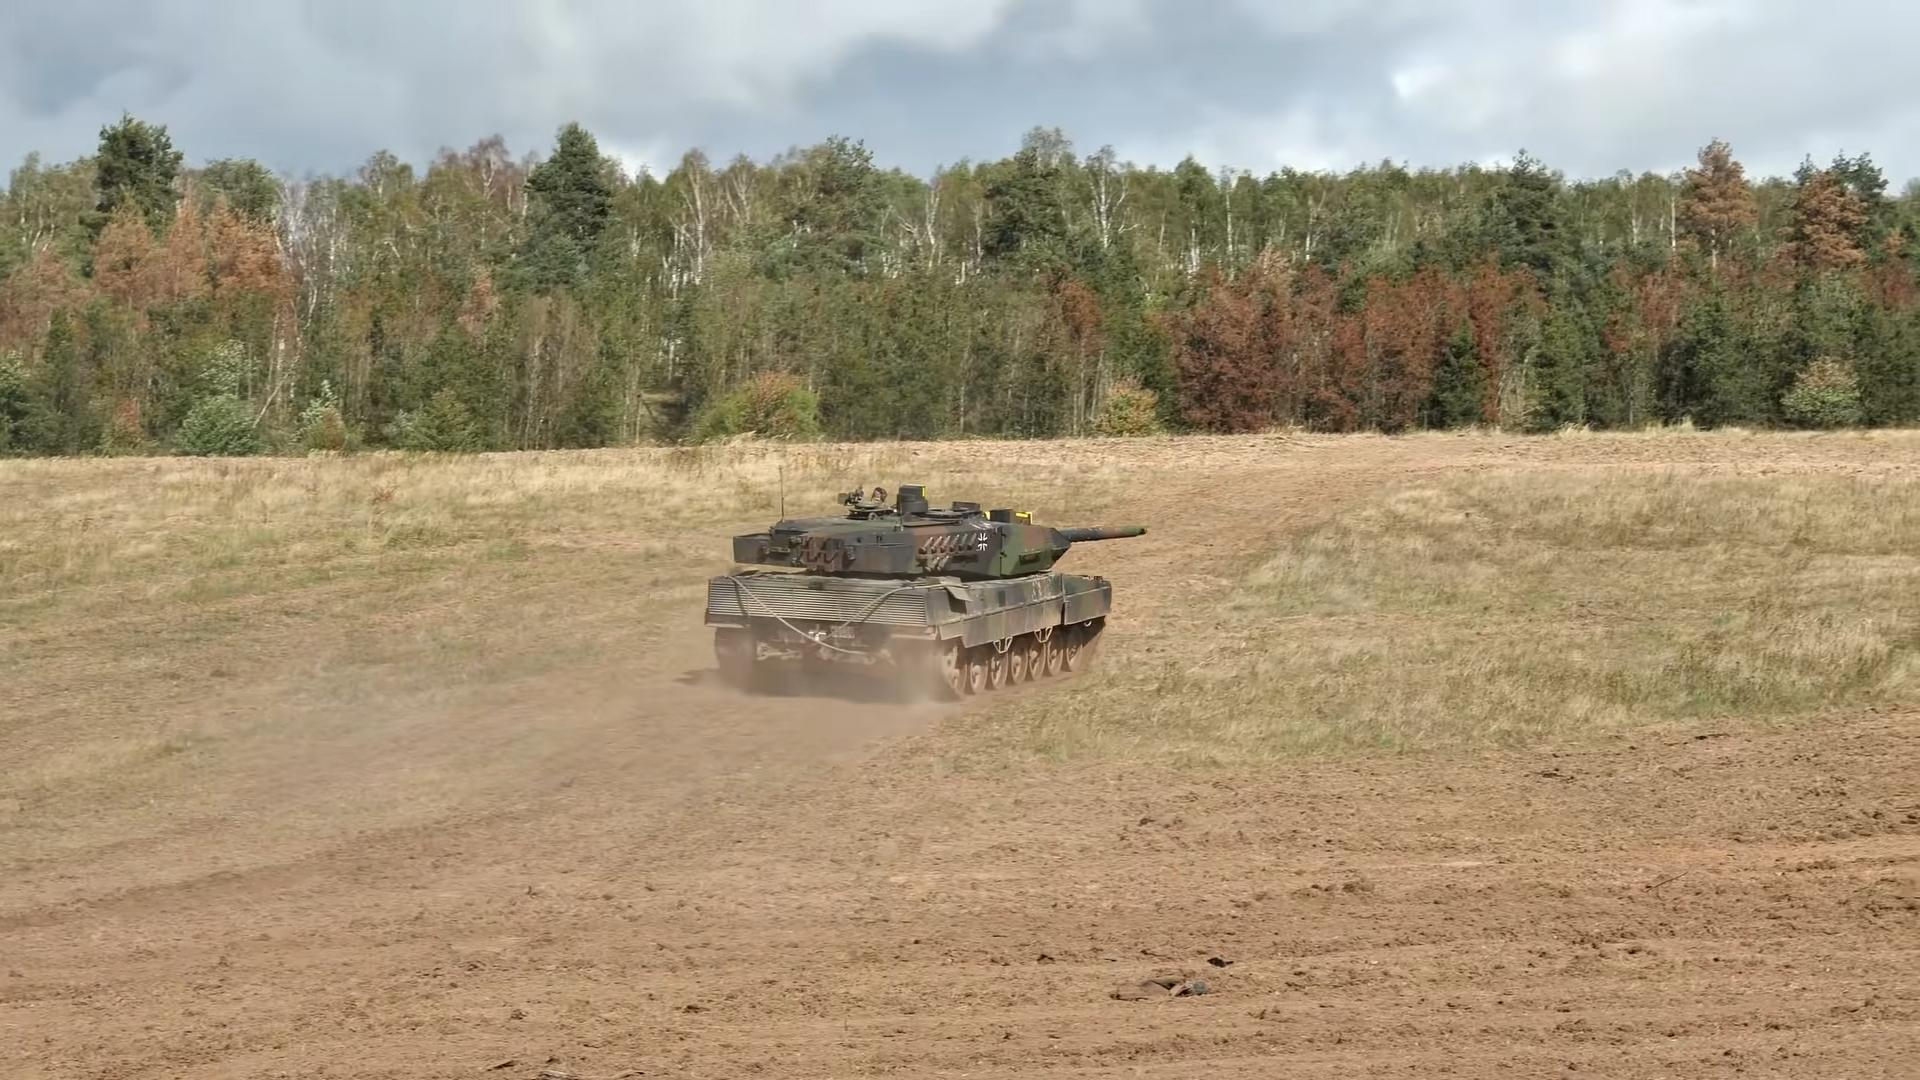tank: (704, 485, 1147, 698)
